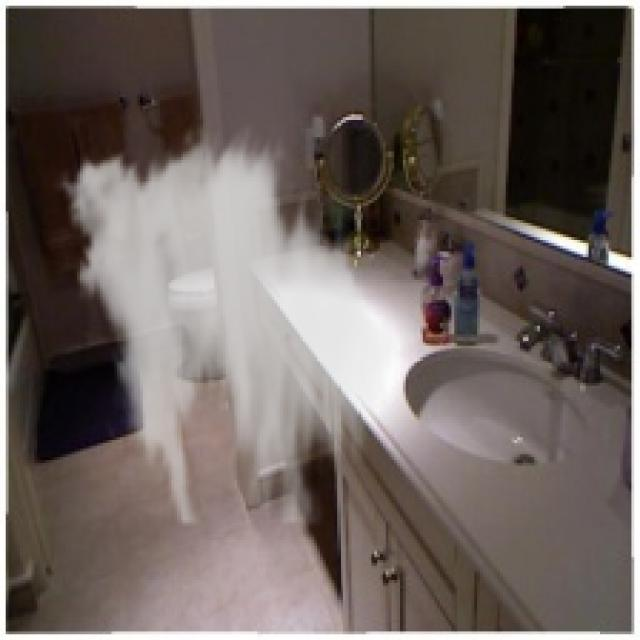smoke: (51, 123, 408, 526)
